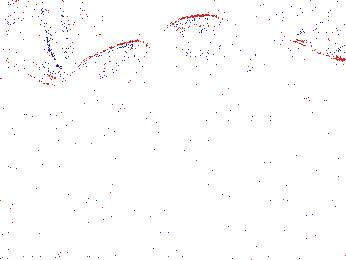moon jellyfish: (51, 40, 153, 130), (153, 13, 256, 82), (5, 1, 78, 86), (279, 1, 346, 62)
